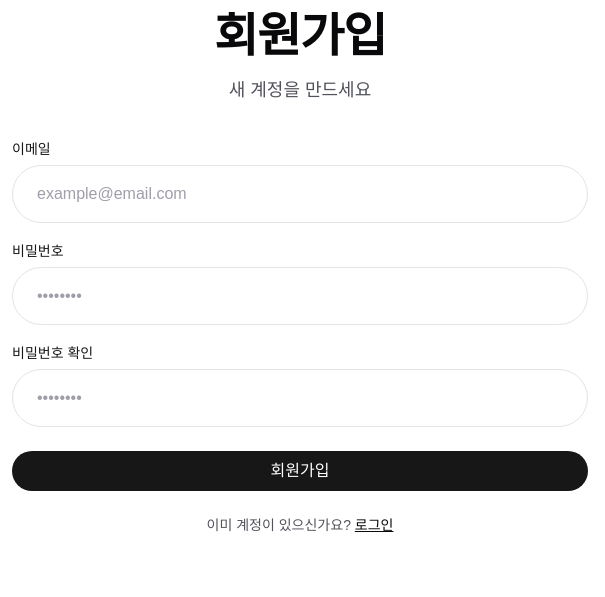
it: SignupForm › Validation - Password › should show error for password shorter than 8 characters
In the field labelled "이메일": point(300, 194) top-left (12, 165), bottom-right (588, 223), type "test@example.com"
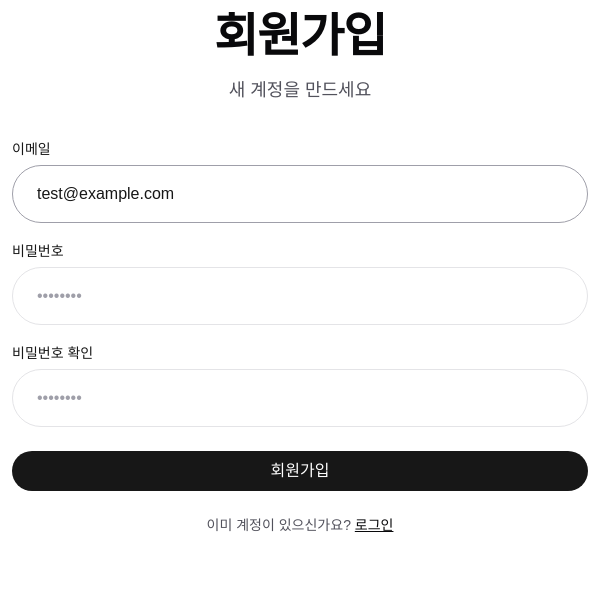
In the password field labelled "비밀번호": point(300, 296) top-left (12, 267), bottom-right (588, 325), type "short"
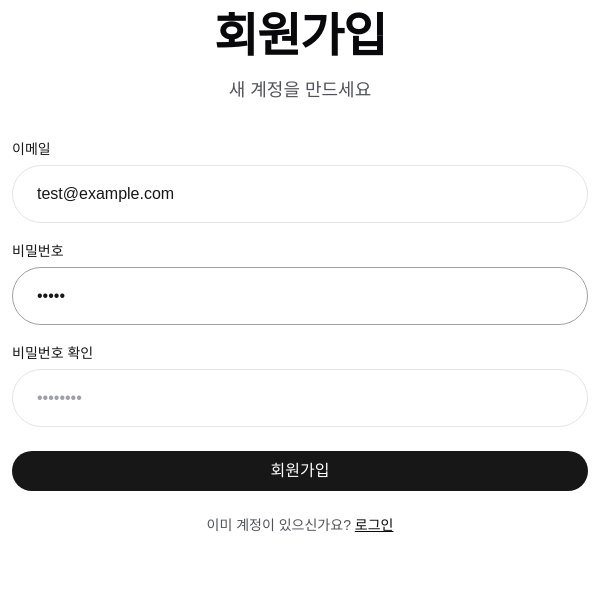
Click the button "회원가입": point(300, 471) top-left (12, 451), bottom-right (588, 491)
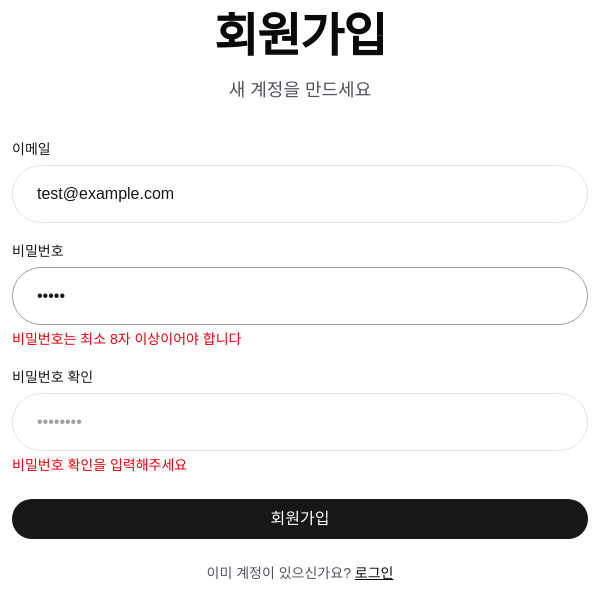
Now the text "비밀번호는 최소 8자 이상이어야 합니다" is shown, box top-left (12, 331), bottom-right (241, 347)
